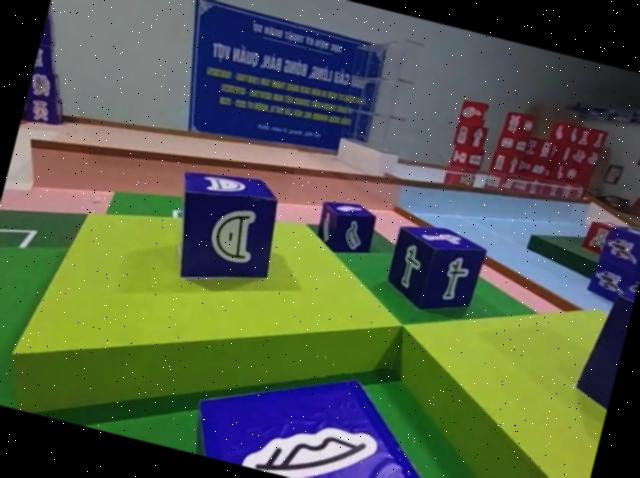R2 Real Blue: (189, 342, 494, 478), (158, 163, 290, 302), (378, 218, 489, 324), (313, 194, 378, 258)
